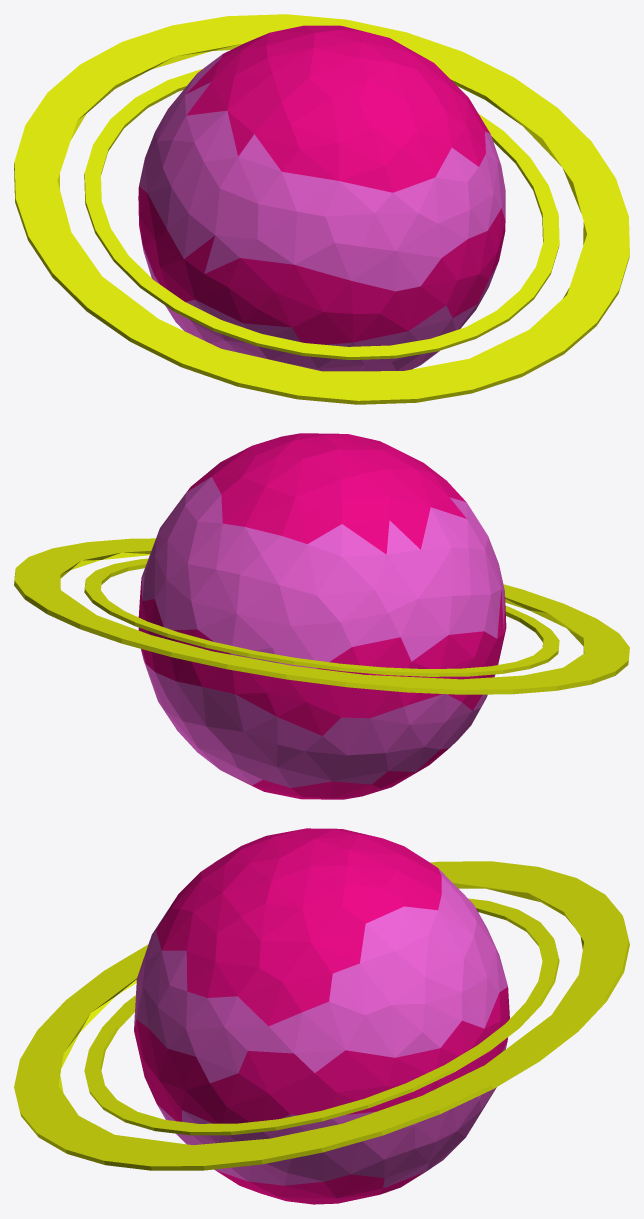
The model's file is planet_6.fbx.
3 views of the same model, one above another, from view 1: azimuth 30°, elevation 25°; view 2: azimuth 150°, elevation 25°; view 3: azimuth 270°, elevation 25° (orthographic). The views are drawn at different scales.
Parts seen in each view (by area): view 1: planet_6; view 2: planet_6; view 3: planet_6.
Part boxes in pixels (x1=…): planet_6: x1=14, y1=14, x2=629, y2=404; planet_6: x1=14, y1=433, x2=629, y2=799; planet_6: x1=14, y1=828, x2=629, y2=1204.
Size of the model in its own units: 1031 by 1064 by 631.
